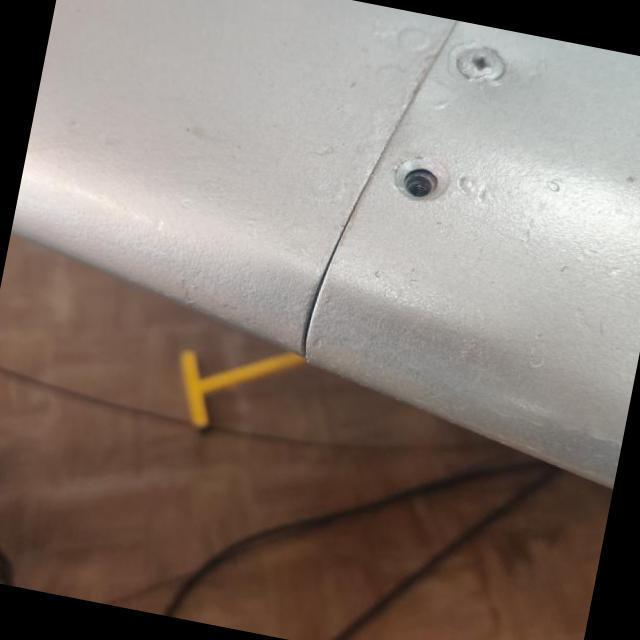Fastener Damage: (342, 111, 492, 258)
